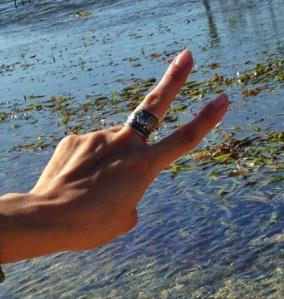front: (38, 42, 233, 247)
